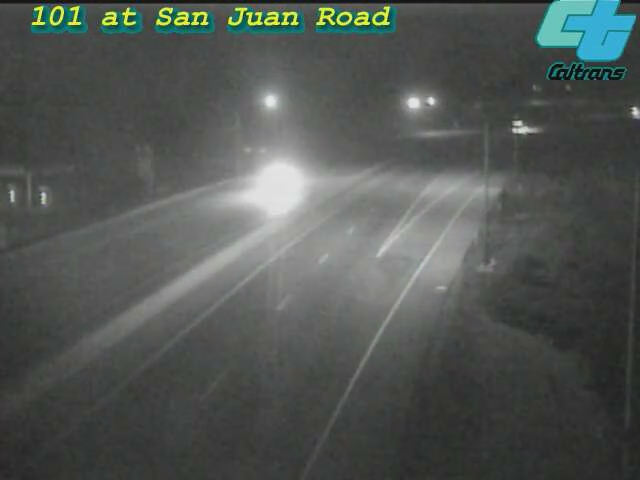vehicle: (239, 141, 319, 221), (501, 100, 551, 150)
